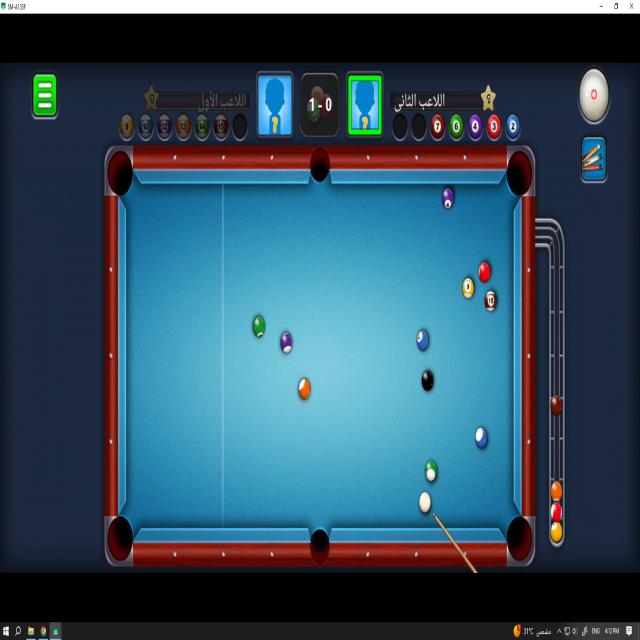object_ball: (479, 262, 490, 284), (475, 428, 487, 448), (417, 330, 428, 351), (254, 316, 265, 337), (422, 370, 433, 391), (442, 188, 453, 209), (299, 379, 310, 399), (425, 461, 436, 481), (281, 333, 292, 353), (485, 291, 496, 311), (463, 278, 473, 299)
white_cue_ball: (419, 492, 430, 513)
